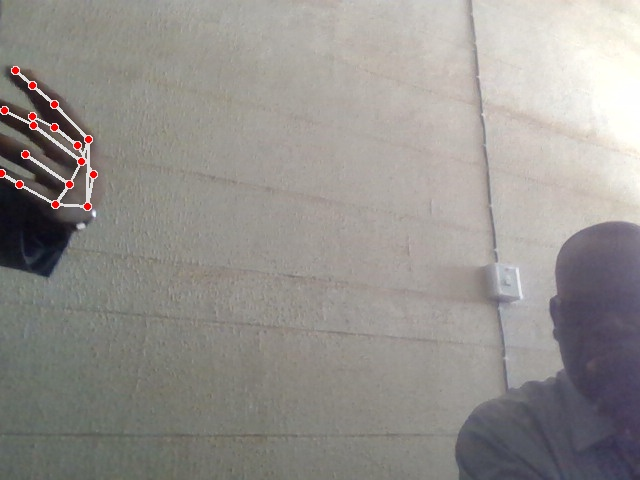sorry: (9, 72, 104, 228)
